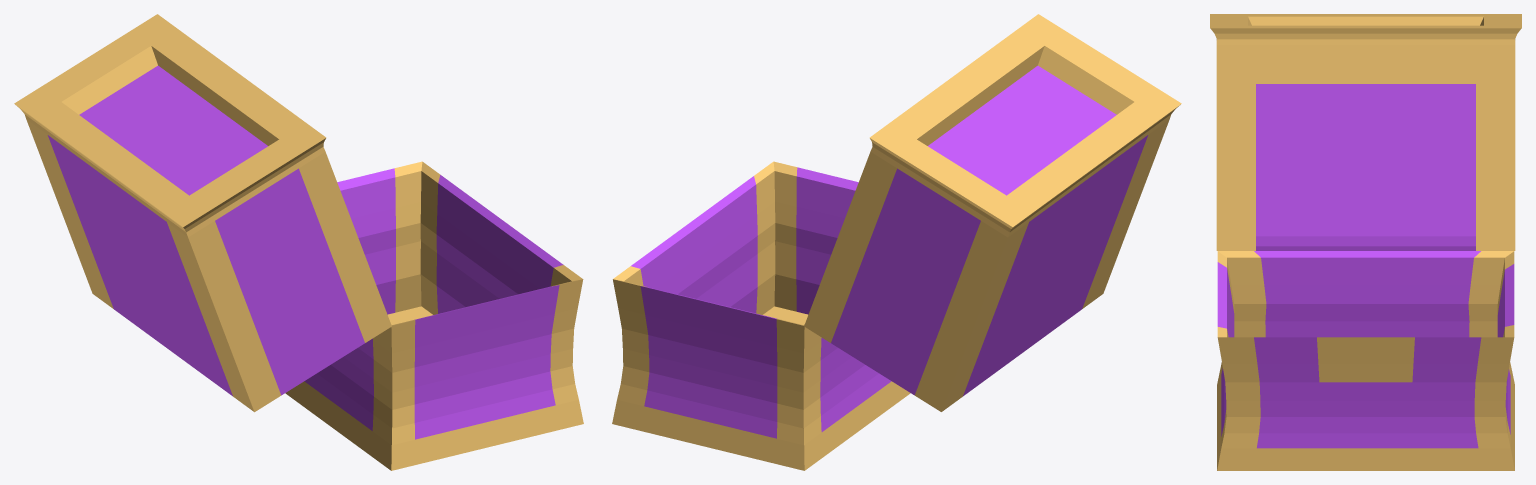
The model's file is sandık (1).fbx.
The picture shows the model from 3 angles, left to right: view 1: azimuth 30°, elevation 25°; view 2: azimuth 150°, elevation 25°; view 3: azimuth 270°, elevation 25°; orthographic projection. The views are drawn at different scales.
Parts seen in each view (by area): view 1: Cube.002, Cube.003; view 2: Cube.002, Cube.003; view 3: Cube.002, Cube.003.
Boxes of the visible parts, left/top/right/bottom form: Cube.002: left=14, top=14, right=391, bottom=412; Cube.003: left=285, top=161, right=583, bottom=470; Cube.002: left=804, top=14, right=1181, bottom=411; Cube.003: left=612, top=161, right=910, bottom=470; Cube.002: left=1210, top=14, right=1521, bottom=250; Cube.003: left=1217, top=251, right=1514, bottom=470.
Bounding box in the file's own units: 154 × 128 × 111.
